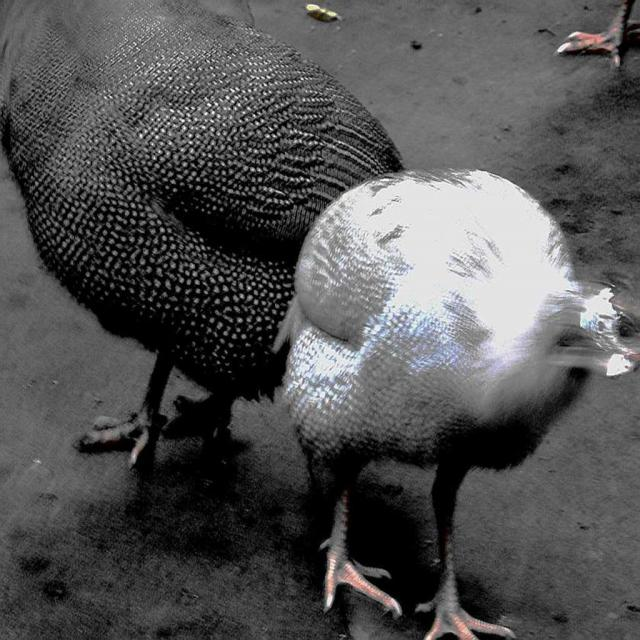Chicken: (0, 0, 420, 484)
